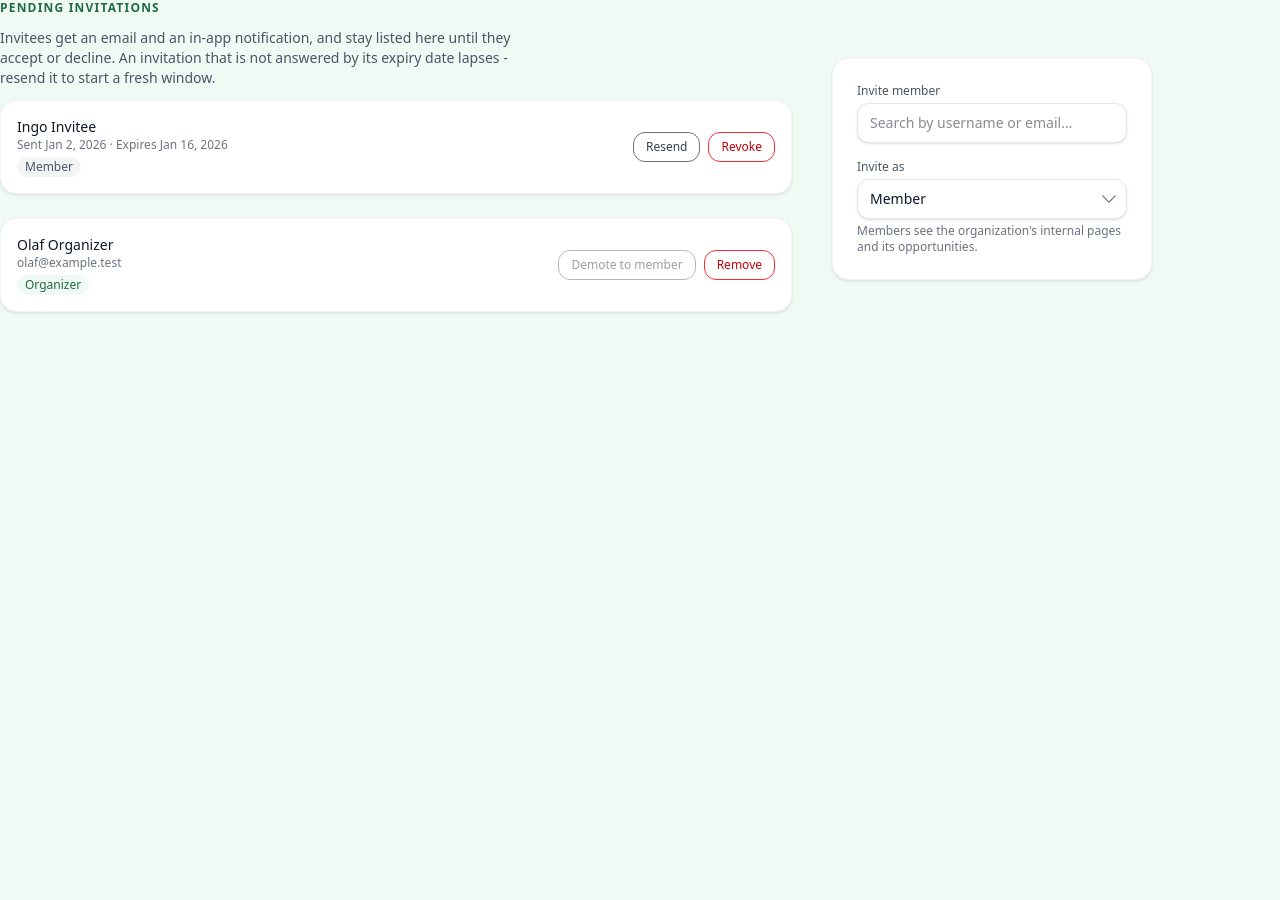
OrgMembersPage invitations › revokes a pending invitation once the revoke is confirmed
Click the button "Revoke": x=742, y=147 [708, 132, 775, 162]
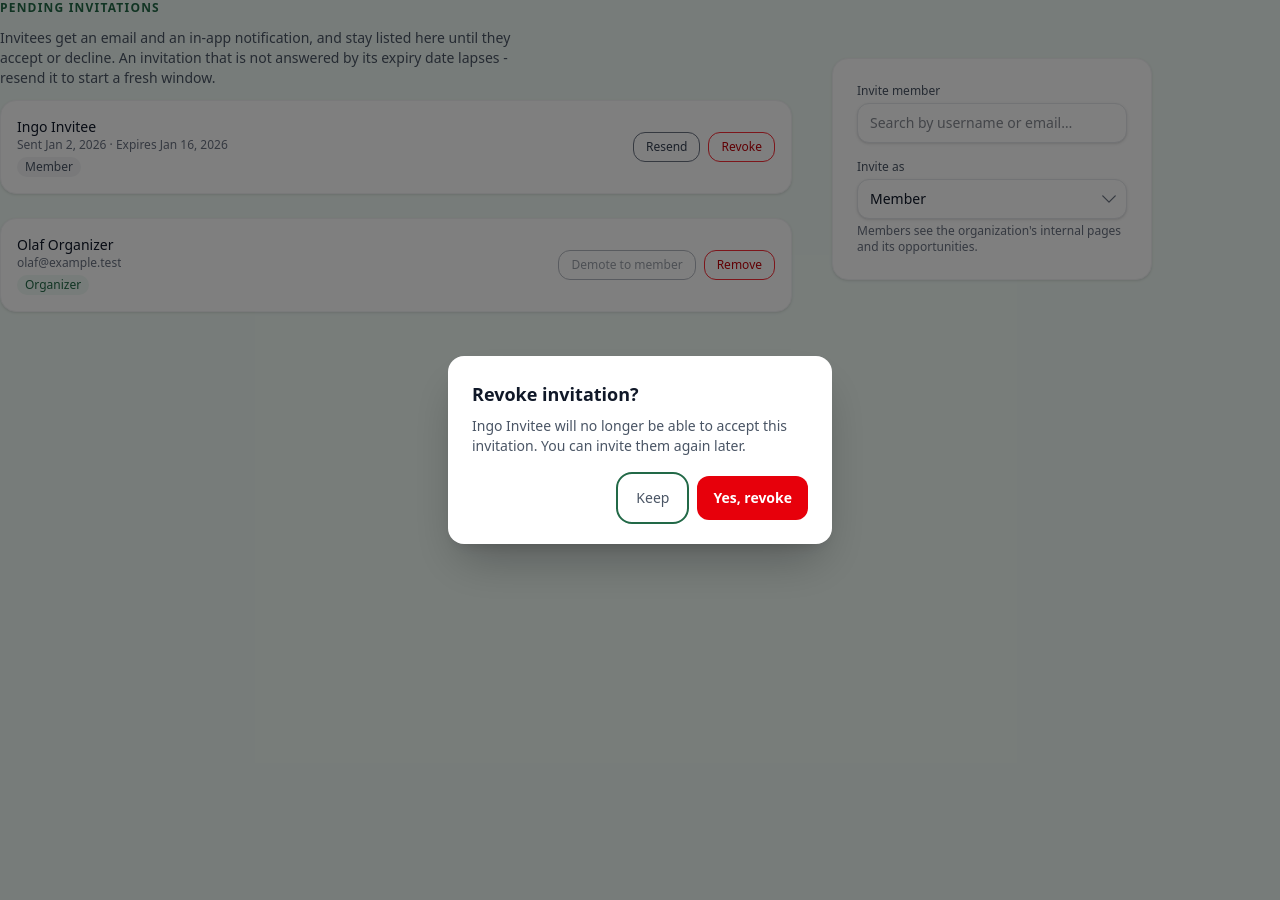
Click the button "Yes, revoke": x=753, y=498 [697, 476, 808, 520]
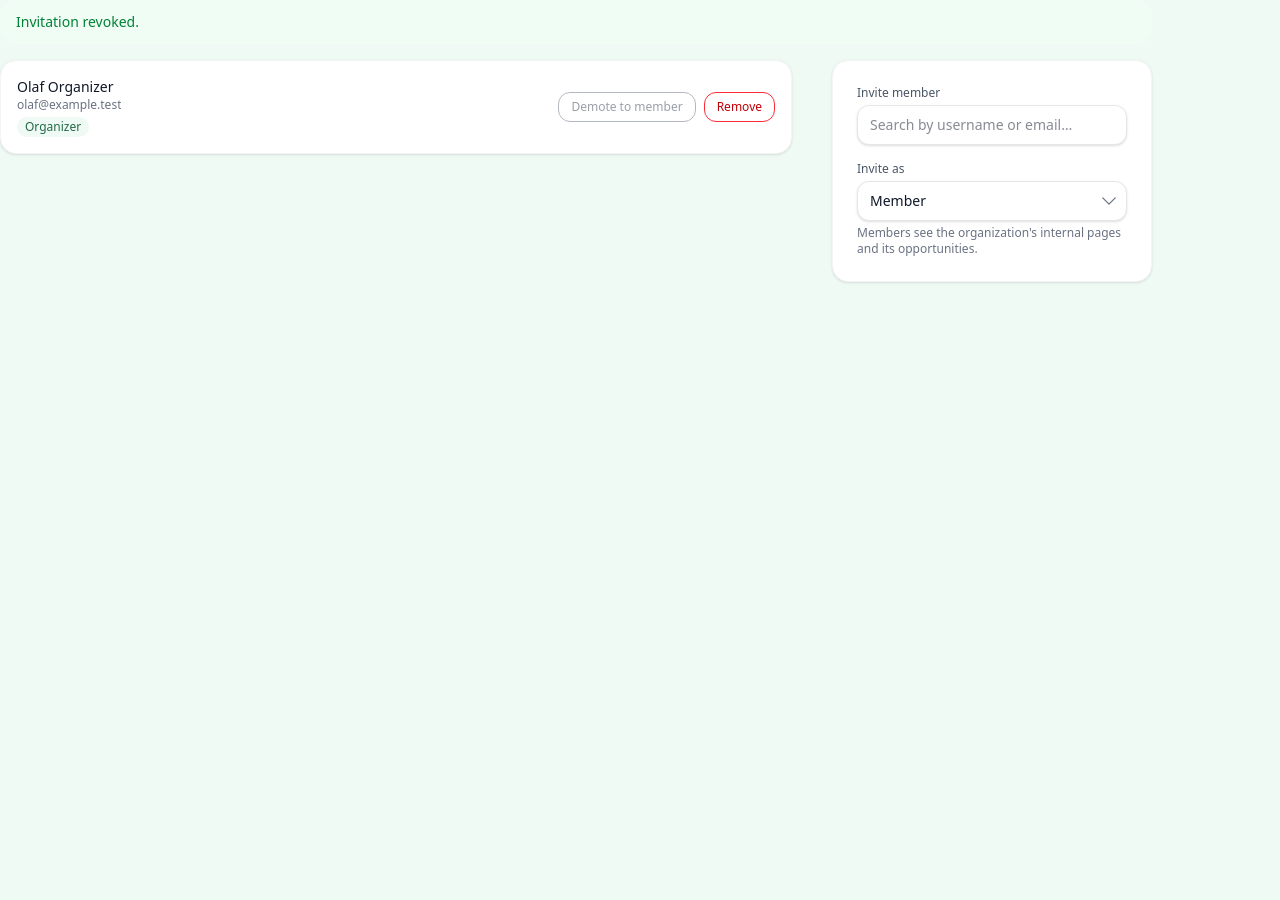
Expected: the text "Invitation revoked." is shown, [0, 0, 1152, 44]
